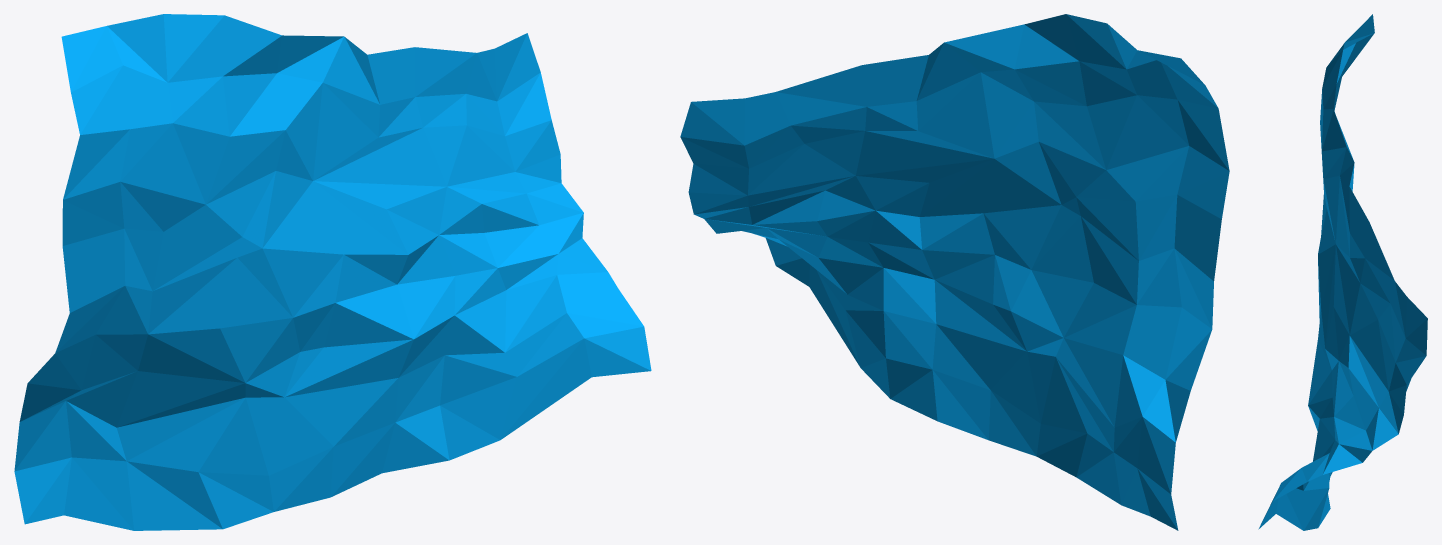
The model's file is Note3.fbx.
The picture shows the model from 3 angles, left to right: view 1: azimuth 30°, elevation 25°; view 2: azimuth 150°, elevation 25°; view 3: azimuth 270°, elevation 25°; orthographic projection. The views are drawn at different scales.
Parts seen in each view (by area): view 1: Note3; view 2: Note3; view 3: Note3.
Part boxes in pixels (left/top/right/bottom): Note3: left=14, top=14, right=651, bottom=530; Note3: left=680, top=14, right=1229, bottom=530; Note3: left=1258, top=14, right=1427, bottom=530.
Bounding box in the file's own units: 218 × 197 × 74.69.
